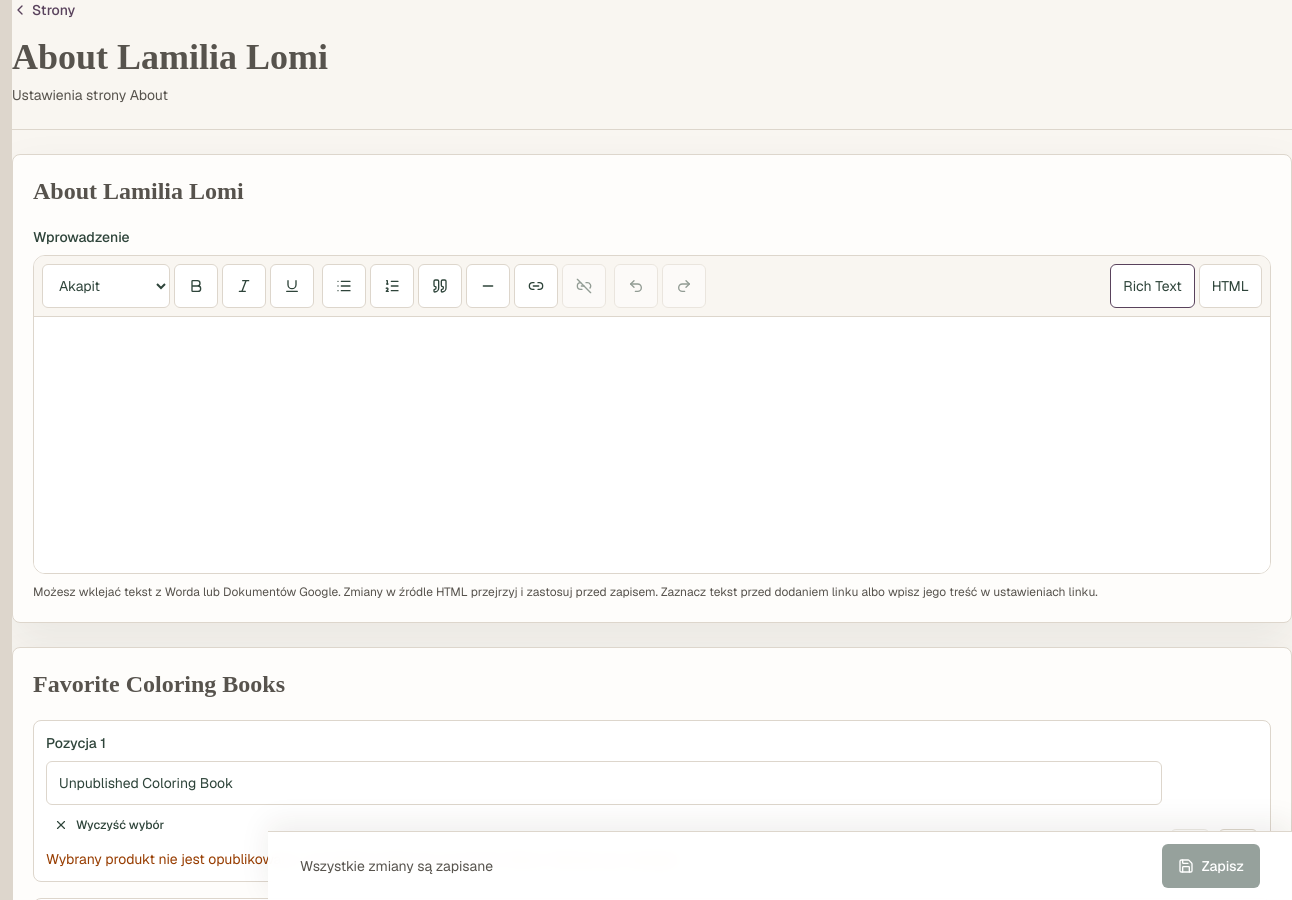
Test case: AboutPageEditor › warns about missing and unpublished saved products while allowing their replacement
Expected: the text "nie jest opublikowany" is shown, [46, 850, 682, 868]
Click the dropdown named "Favorite Coloring Books, pozycja 1".
click(604, 783)  # box [46, 761, 1162, 805]
(page scrolled)
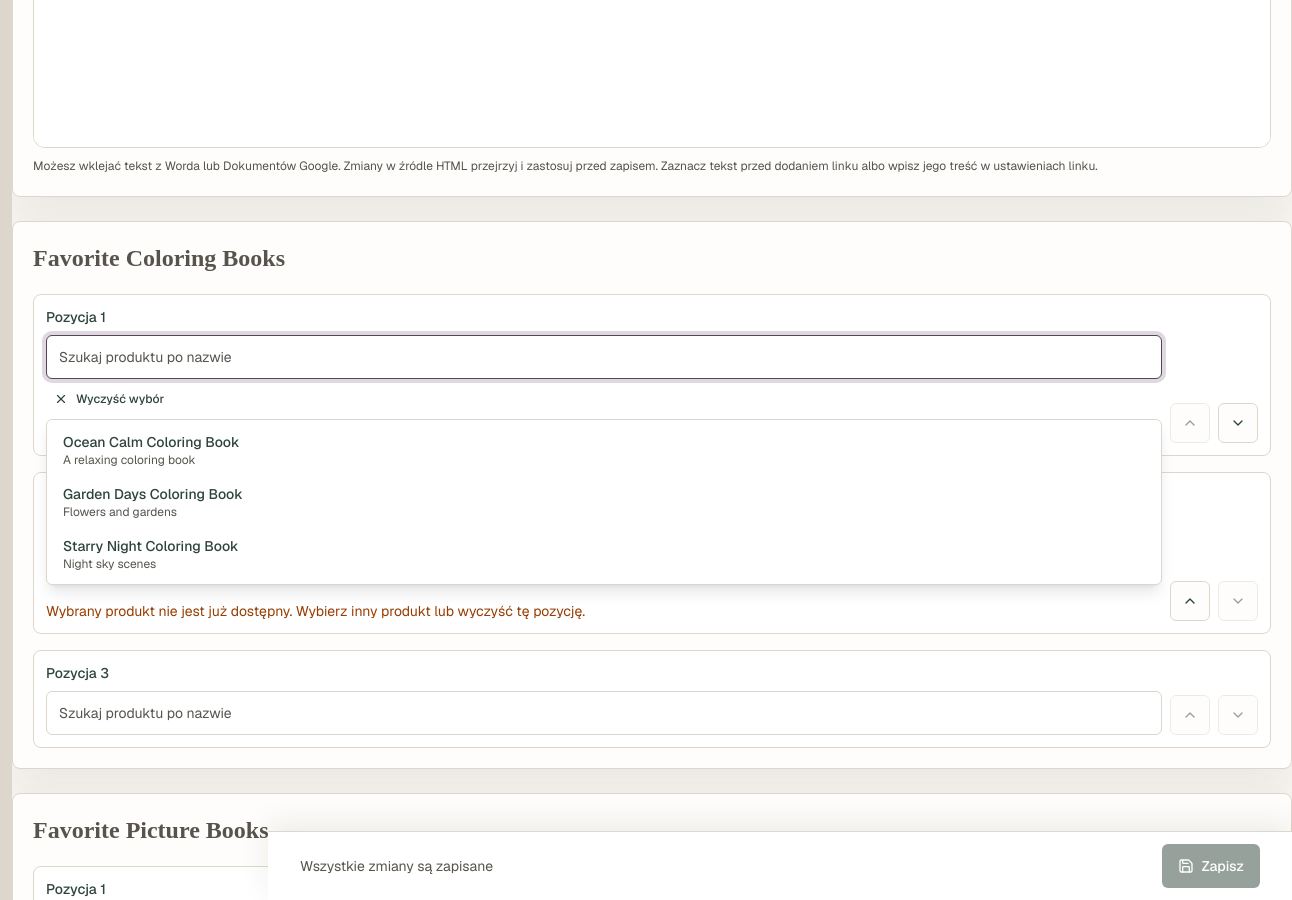
Expected: the option "Unpublished Coloring Book" is not shown
Click the option "Ocean Calm Coloring Book A relaxing coloring book".
click(151, 450)  # box [63, 433, 240, 468]
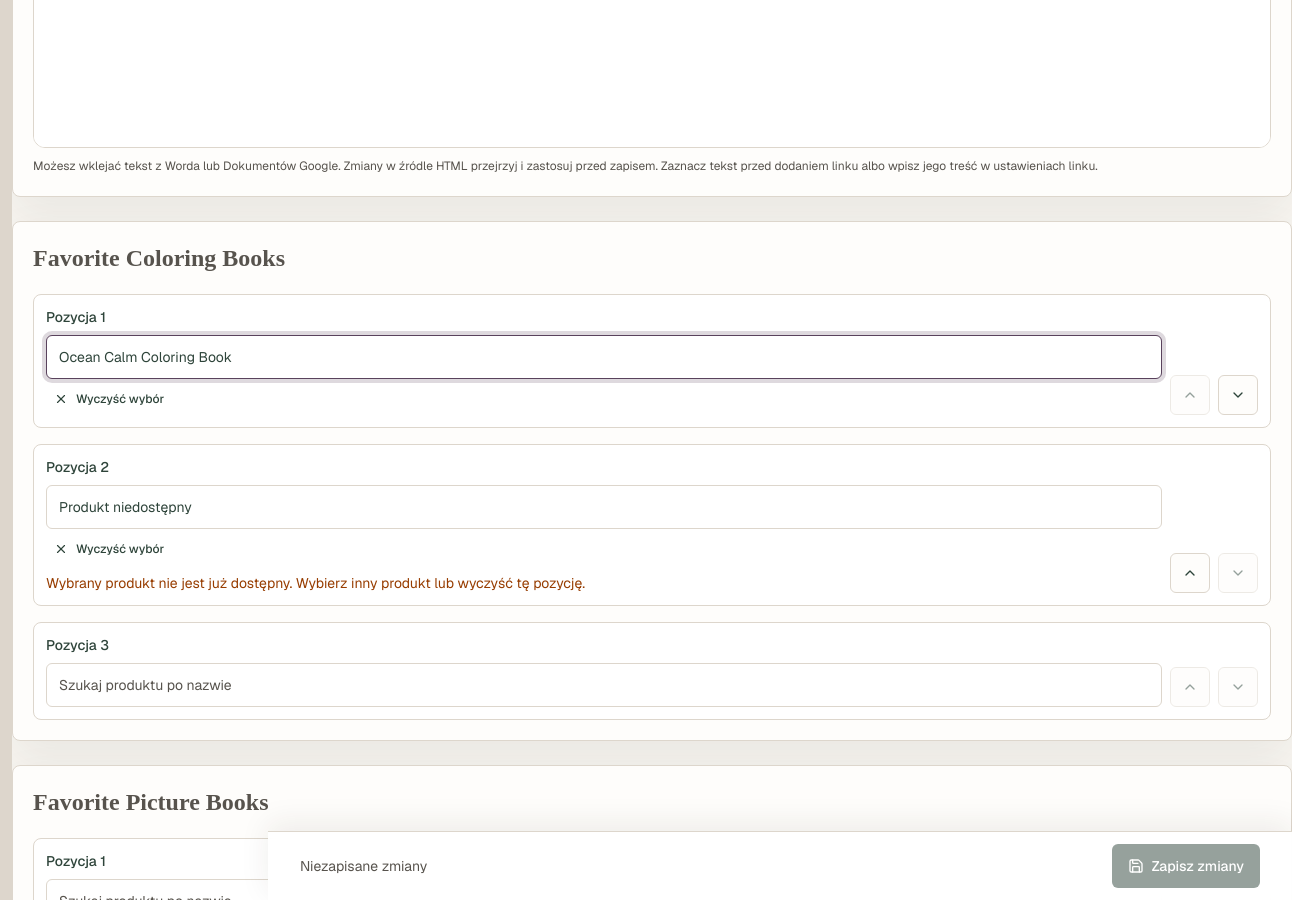
Expected: the text "nie jest już dostępny" is shown, [46, 574, 585, 592]
Expected: the dropdown named "Favorite Coloring Books, pozycja 1" holds "Ocean Calm Coloring Book", [46, 335, 1162, 379]
